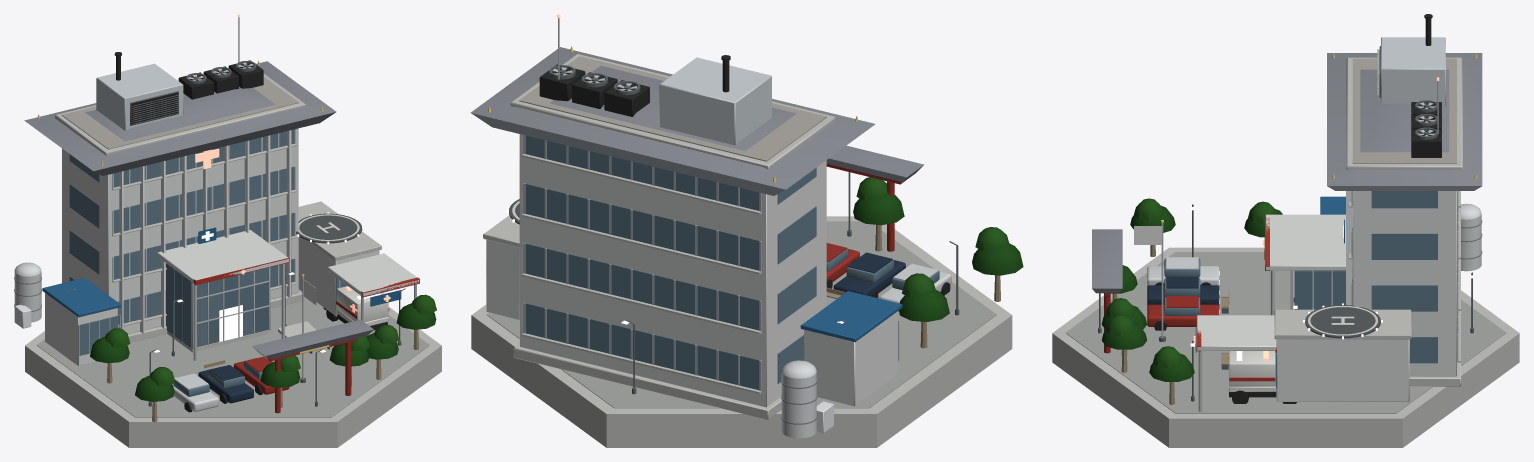
The model's file is hospital_asia.glb.
The picture shows the model from 3 angles, left to right: view 1: azimuth 30°, elevation 25°; view 2: azimuth 150°, elevation 25°; view 3: azimuth 270°, elevation 25°; orthographic projection. The views are drawn at different scales.
Visible parts, largest first — view 1: cladding, wall_concrete, glass, pavers, roof_slate, paint, leaf, dark, metal, gravel, steel_dark, glow_cyan (+2 smaller); view 2: cladding, wall_concrete, glass, roof_slate, pavers, paint, leaf, gravel, dark, steel_dark, wood; view 3: cladding, wall_concrete, pavers, roof_slate, paint, glass, leaf, gravel, dark, metal, steel_dark, wood (+1 smaller).
Boxes of the visible parts, x1,y1,x2,y2 form: cladding: (14,63,419,365); wall_concrete: (25,74,441,447); glass: (69,129,347,396); pavers: (36,289,429,417); roof_slate: (24,61,373,359); paint: (14,213,419,413); leaf: (90,294,436,401); dark: (114,52,387,412); metal: (132,17,416,378); gravel: (61,76,298,149); steel_dark: (67,61,405,406); glow_cyan: (201,231,380,341); cladding: (486,57,899,433); wall_concrete: (471,54,1012,447); glass: (525,135,939,390); roof_slate: (470,47,923,195); pavers: (487,221,996,408); paint: (509,164,951,438); leaf: (853,177,1023,321); gravel: (519,56,826,161); dark: (539,55,950,297); steel_dark: (549,65,959,394); wood: (826,224,1000,348); cladding: (1197,37,1458,401); wall_concrete: (1052,57,1519,447); pavers: (1065,252,1506,413); roof_slate: (1092,53,1482,293); paint: (1104,196,1482,391); glass: (1164,191,1457,388); leaf: (1101,198,1282,381); gravel: (1352,58,1456,163); dark: (1154,14,1441,403); metal: (1161,49,1438,411); steel_dark: (1098,46,1473,401); wood: (1112,237,1264,404).
Size of the model in its own units: 21.3 by 18.85 by 24.6.
